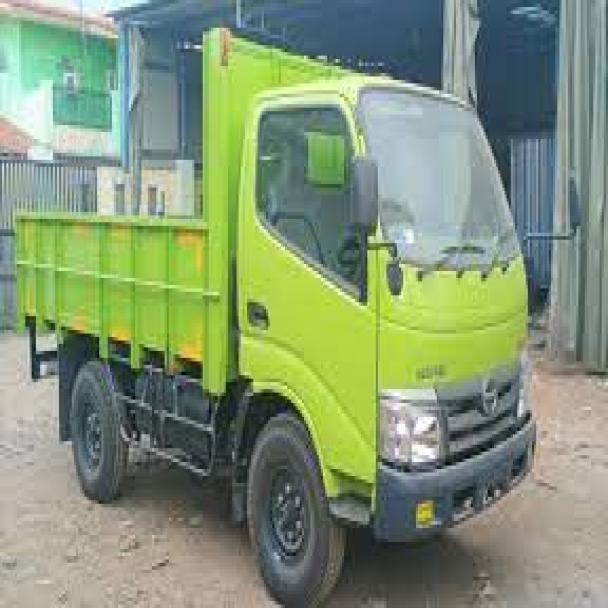Mobil: (20, 33, 530, 608)
